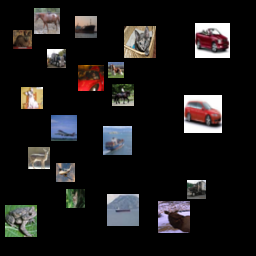airplane: (51, 115, 77, 141), (56, 163, 75, 182)
automobile: (184, 95, 222, 133), (195, 23, 230, 58), (78, 65, 104, 91)
cat: (124, 26, 156, 58), (66, 189, 85, 208), (13, 30, 32, 49)
deer: (158, 201, 190, 233), (28, 147, 50, 169)
dog: (21, 87, 43, 109), (108, 62, 124, 78)
frog: (5, 205, 37, 237)
ship: (107, 194, 139, 226), (103, 126, 132, 155), (75, 16, 97, 38)
